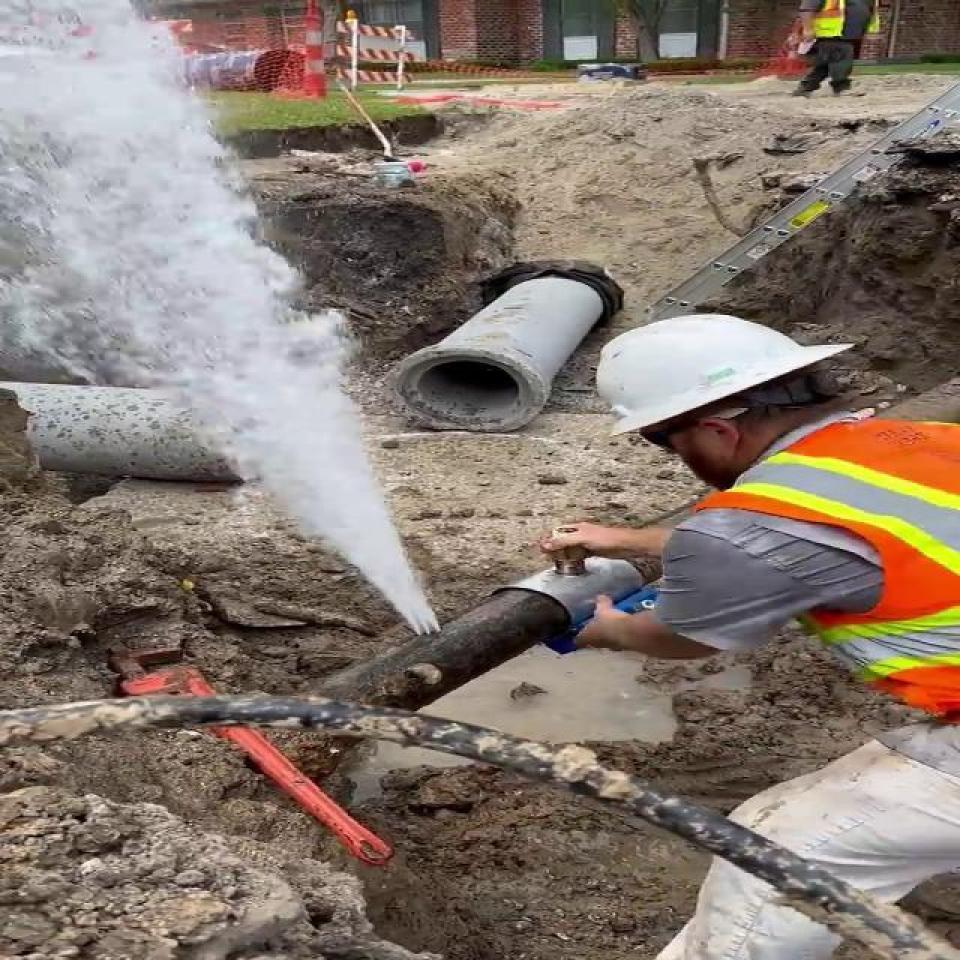pipe burst: (0, 0, 450, 649)
water accumulation: (353, 637, 756, 803)
